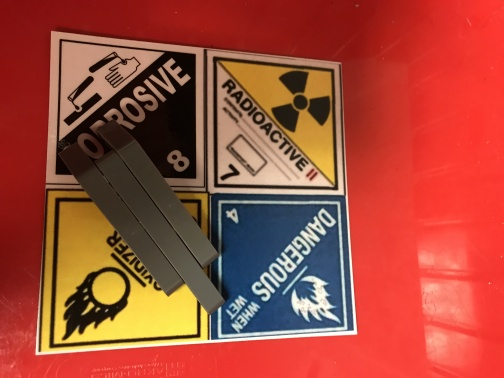Corrosive: (46, 30, 206, 190)
DangerousWhenWet: (211, 195, 356, 342)
Oxidizer: (40, 190, 210, 352)
Radioactive: (204, 47, 349, 195)
